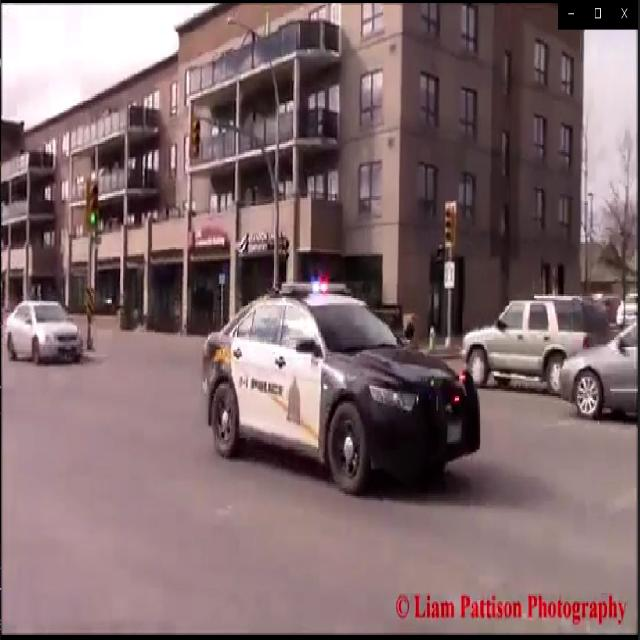emergency: (202, 272, 483, 502)
